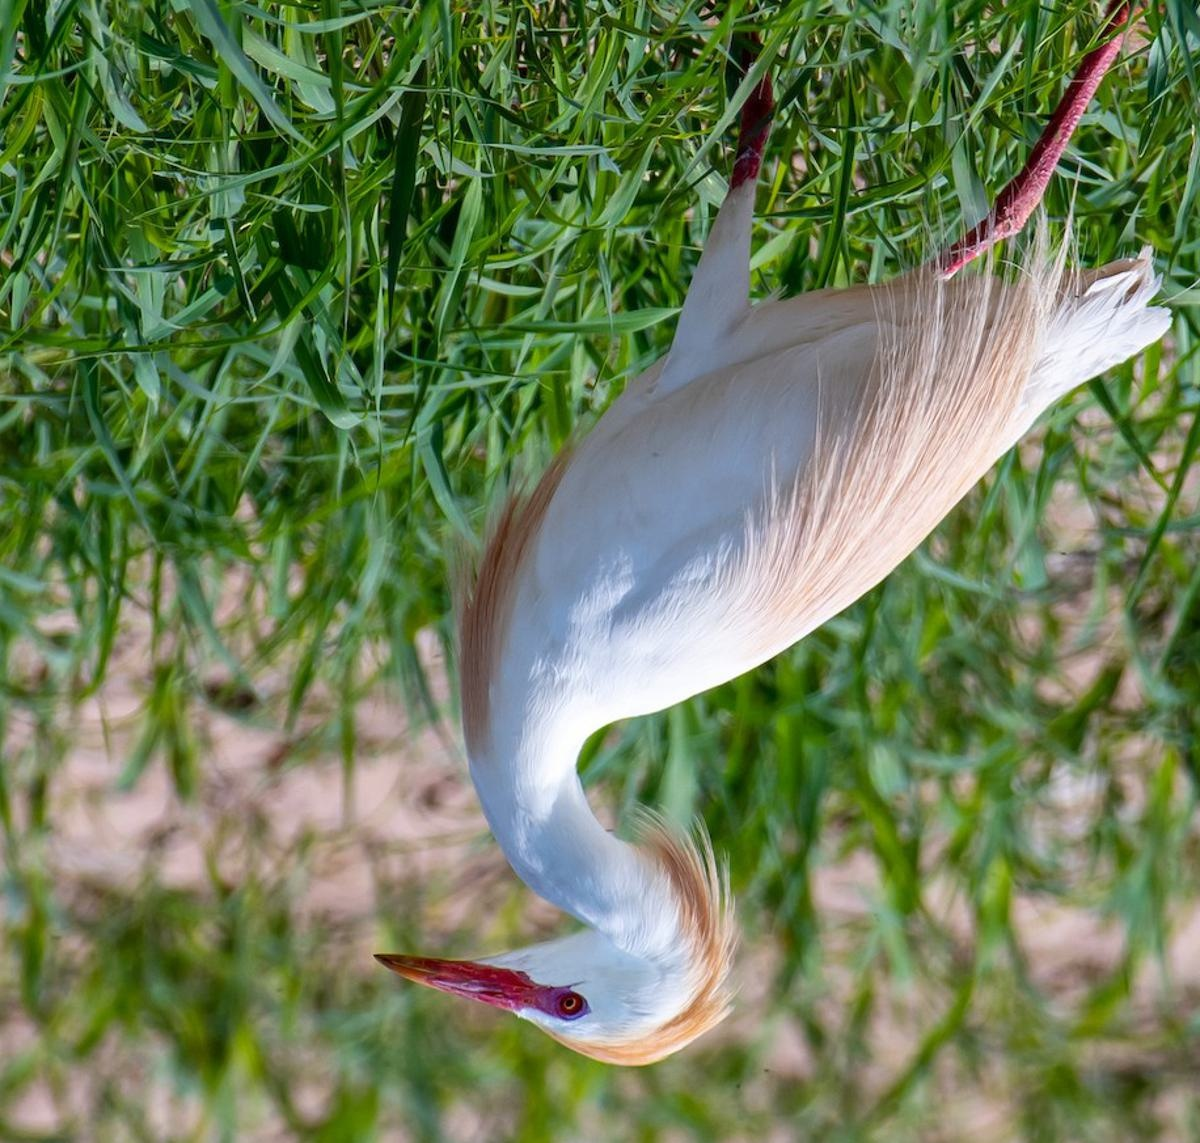egret: (386, 7, 1142, 1067)
